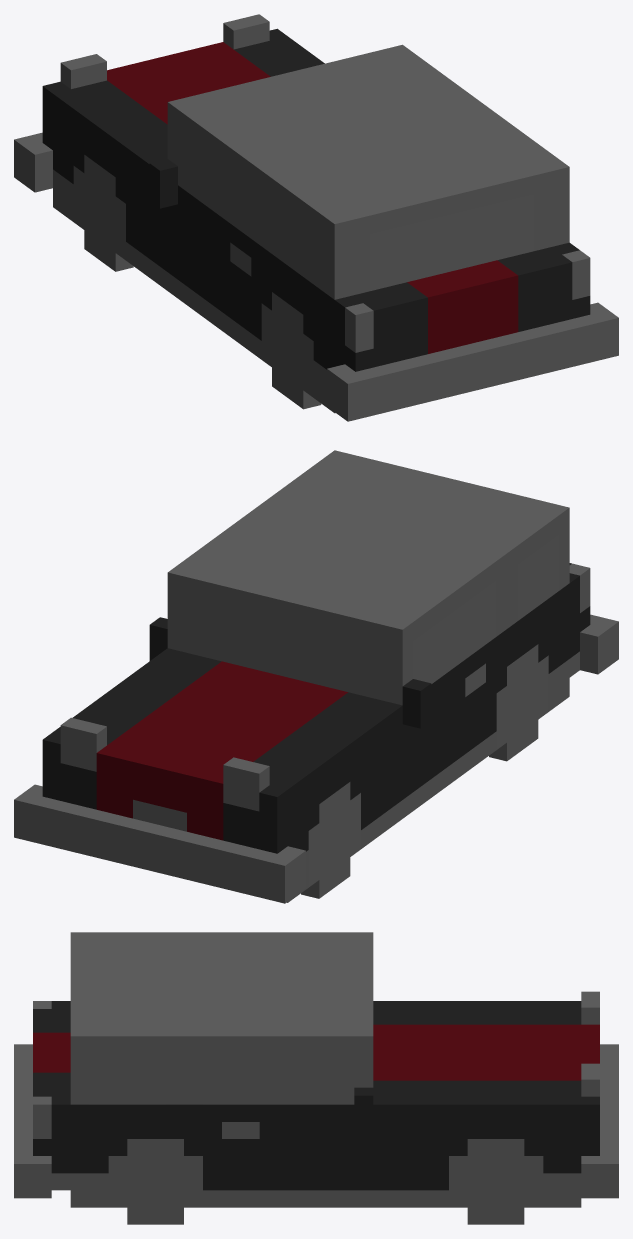
The model's file is veh_wagon4.obj.
3 views of the same model, one above another, from view 1: azimuth 30°, elevation 25°; view 2: azimuth 150°, elevation 25°; view 3: azimuth 270°, elevation 25° (orthographic). The views are drawn at different scales.
Bounding box in the file's own units: 15 × 11 × 32.
